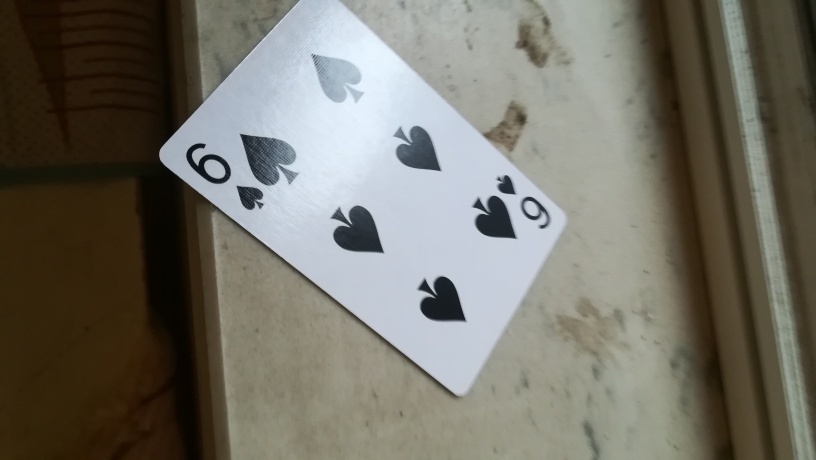ht 6: (157, 1, 570, 394)
